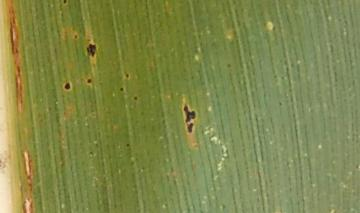tarspot: (180, 103, 199, 134), (84, 42, 100, 59), (115, 84, 127, 94), (63, 81, 72, 91), (130, 94, 141, 102), (72, 34, 81, 43), (123, 71, 132, 80), (123, 141, 134, 148), (86, 77, 93, 86), (61, 1, 69, 7)
